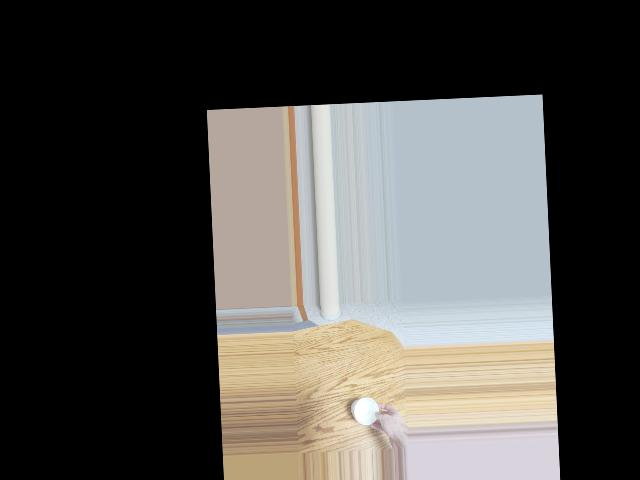cotage: (348, 392, 380, 425)
